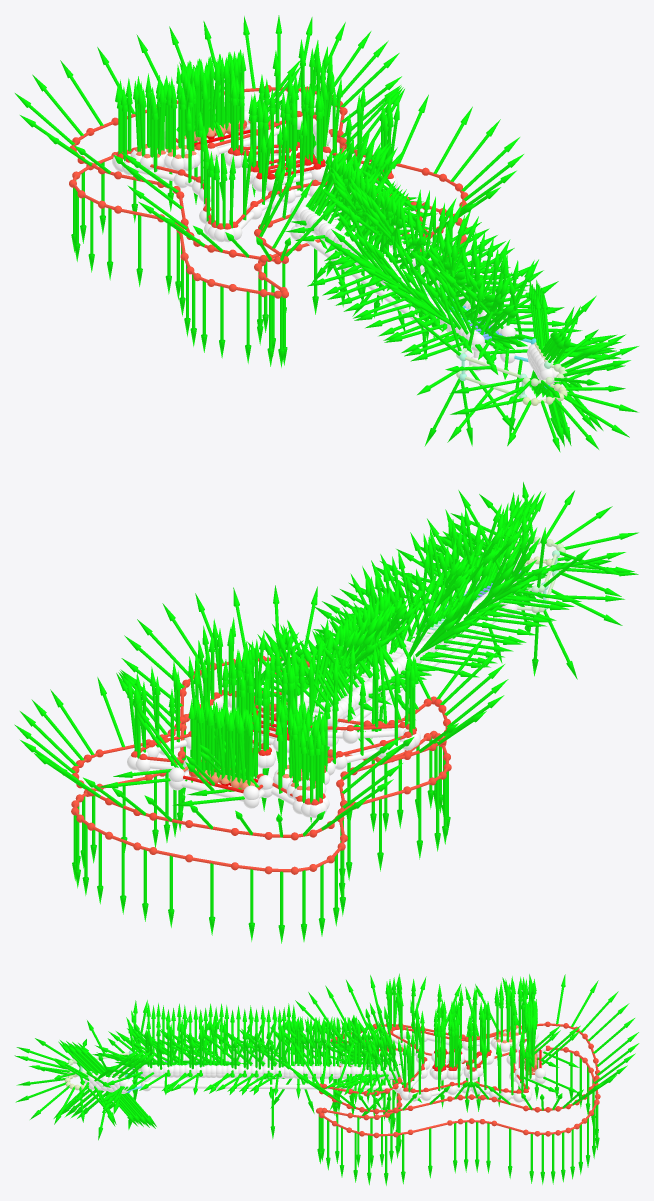
File: onshape_guitar.gltf
The picture shows the model from 3 angles, top to bottom: view 1: azimuth 30°, elevation 25°; view 2: azimuth 150°, elevation 25°; view 3: azimuth 270°, elevation 25°; orthographic projection. The views are drawn at different scales.
Bounding box in the file's own units: 0.5056 × 0.265 × 1.1.
